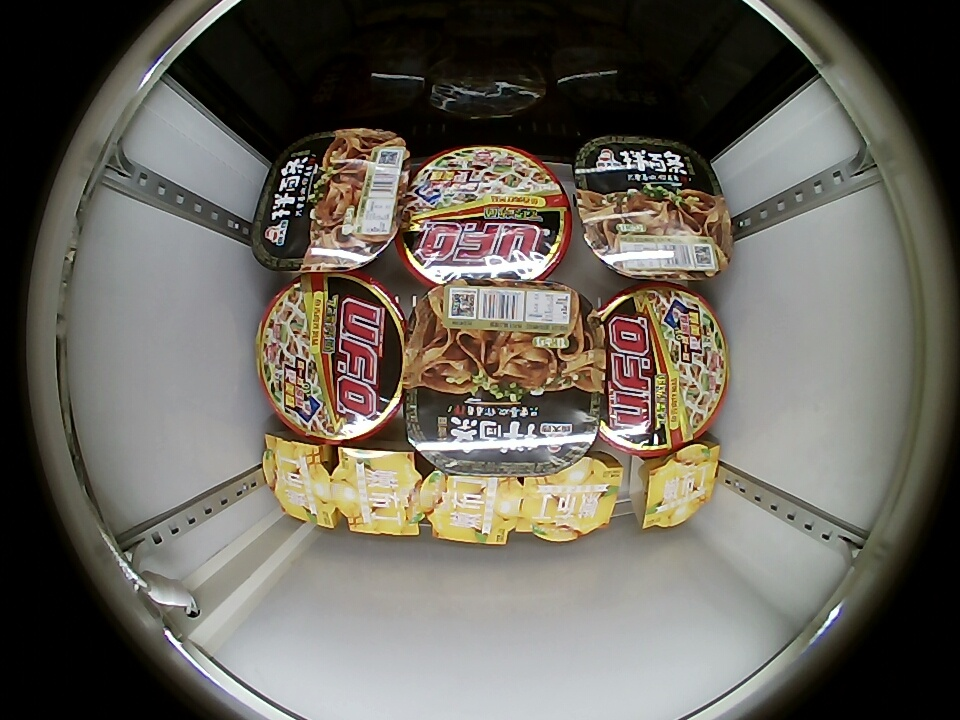buding: (514, 457, 622, 541), (332, 450, 424, 536), (420, 469, 522, 545), (634, 440, 721, 529), (262, 434, 340, 529)
gudasao: (404, 280, 606, 477), (573, 136, 733, 282), (253, 128, 409, 273)
ufo2: (256, 272, 407, 444), (396, 144, 571, 285), (598, 283, 730, 456)
